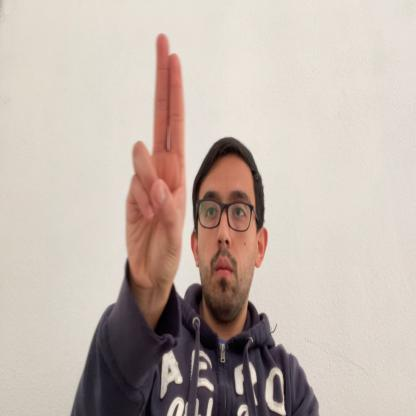U: (125, 32, 187, 307)
